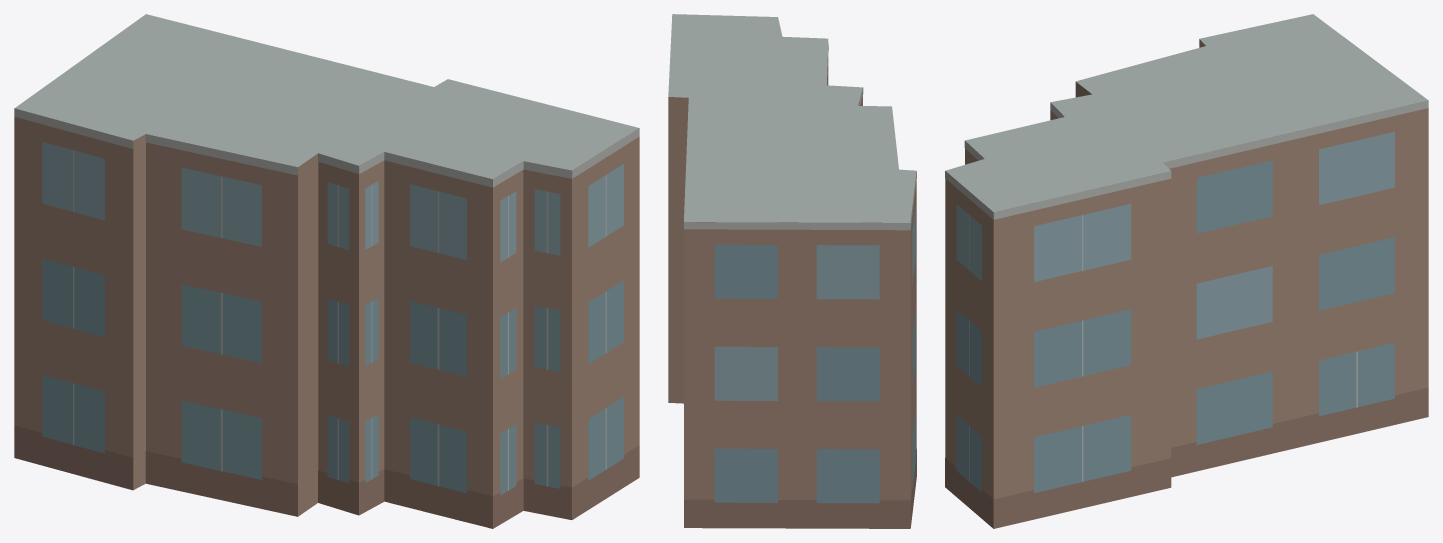
The model's file is survey-upis-32508779.glb.
3 views of the same model, side by side, from view 1: azimuth 30°, elevation 25°; view 2: azimuth 150°, elevation 25°; view 3: azimuth 270°, elevation 25° (orthographic). The views are drawn at different scales.
Visible parts, largest first — view 1: survey-upis-32508779.tmp; view 2: survey-upis-32508779.tmp; view 3: survey-upis-32508779.tmp.
Part boxes in pixels (x1,y1,x2,y2): survey-upis-32508779.tmp: (14,14,639,528); survey-upis-32508779.tmp: (668,14,916,528); survey-upis-32508779.tmp: (945,14,1428,528).
Bounding box in the file's own units: 13.71 × 10.2 × 14.12.
